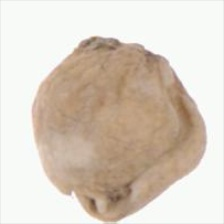L1: (85, 35, 166, 62), (63, 187, 124, 222)
L2: (31, 35, 207, 222)
